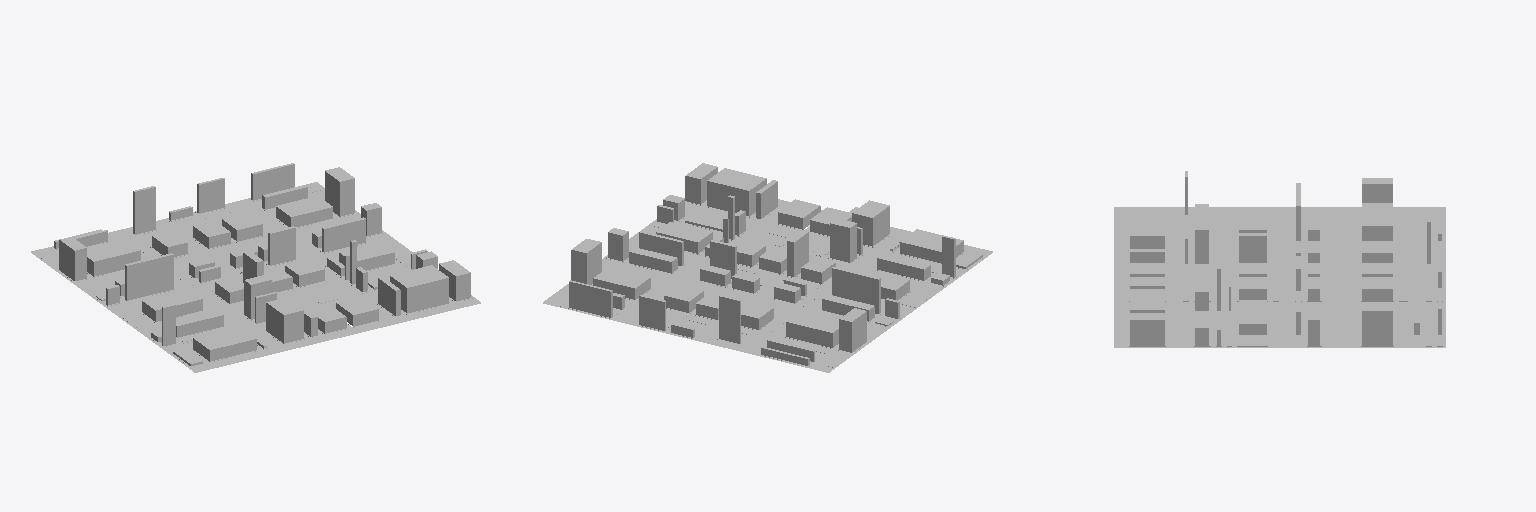
The model's file is lightlySubdividedCity.obj.
3 views of the same model, side by side, from view 1: azimuth 30°, elevation 25°; view 2: azimuth 150°, elevation 25°; view 3: azimuth 270°, elevation 25° (orthographic).
Parts seen in each view (by area): view 1: pPlane1; view 2: pPlane1; view 3: pPlane1.
Part boxes in pixels (left/top/right/bottom): pPlane1: left=31, top=163, right=480, bottom=372; pPlane1: left=543, top=163, right=992, bottom=372; pPlane1: left=1114, top=171, right=1445, bottom=347.
Bounding box in the file's own units: 2035 × 292 × 2035.